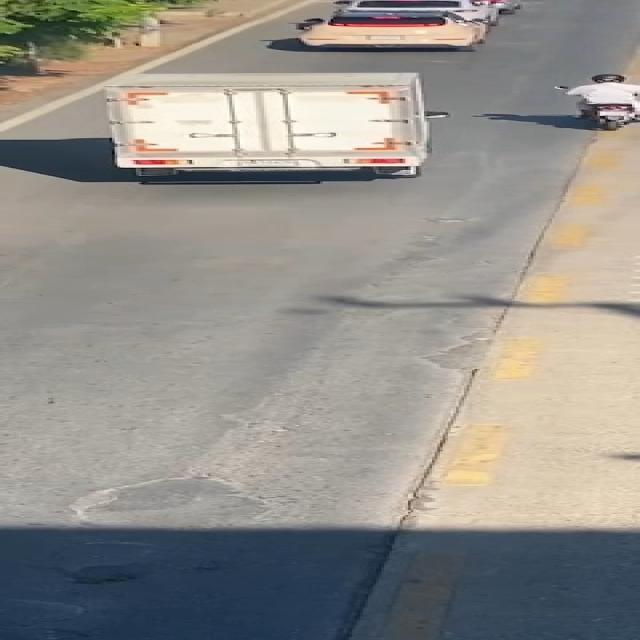car: (72, 64, 496, 180), (274, 8, 503, 56)
